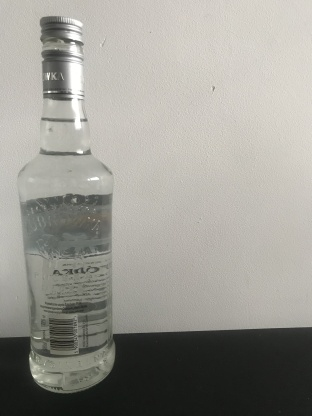nakretka: (38, 14, 86, 100)
